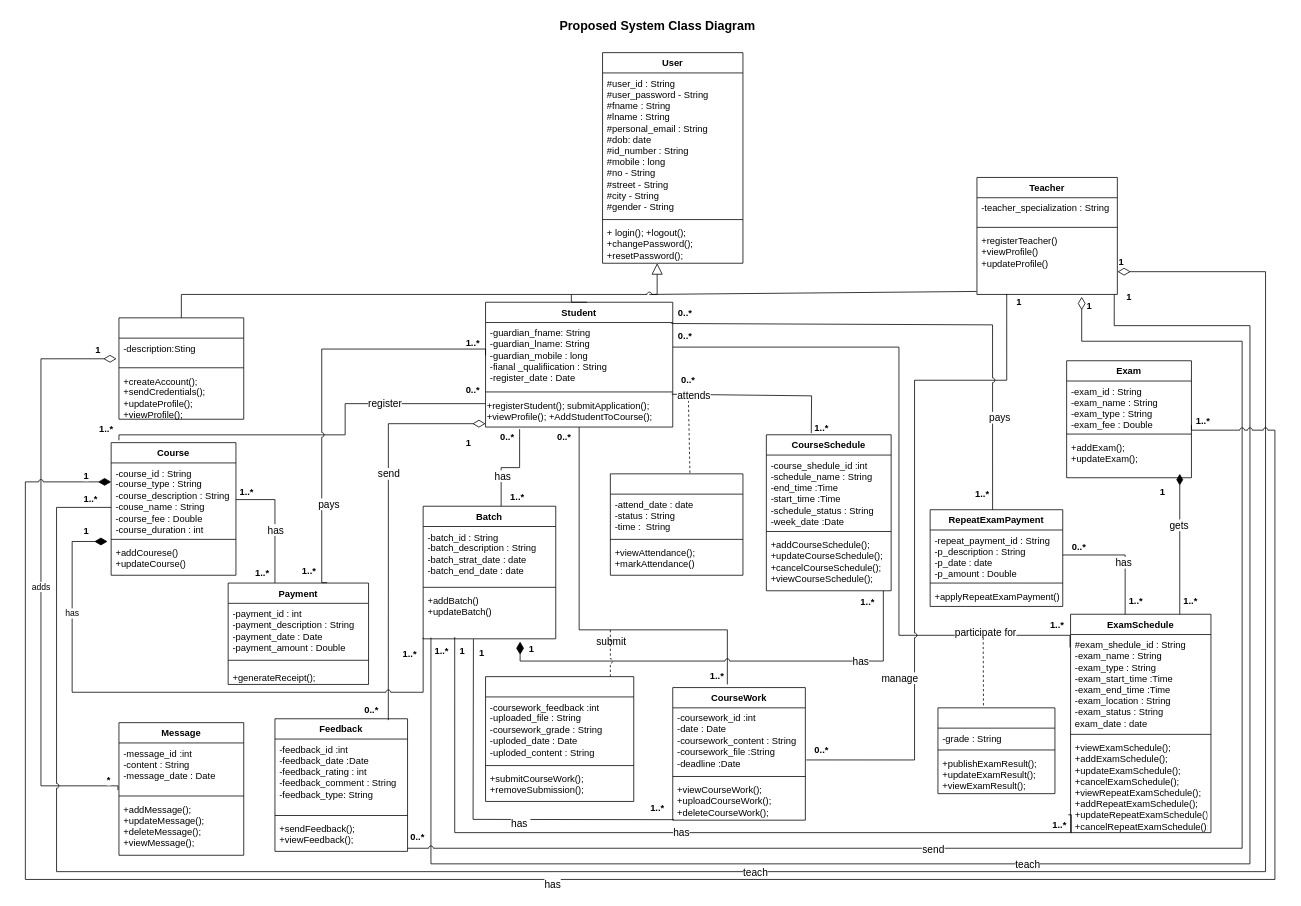
This 1301x906 diagram has some shape labels left out. Each missing label, with the box of its shape:
Admin: (118, 317, 244, 419)
Student_CourseSchedule: (610, 473, 743, 575)
Student_CourseWork: (485, 676, 634, 801)
Student_ExamSchedule: (937, 707, 1055, 794)
